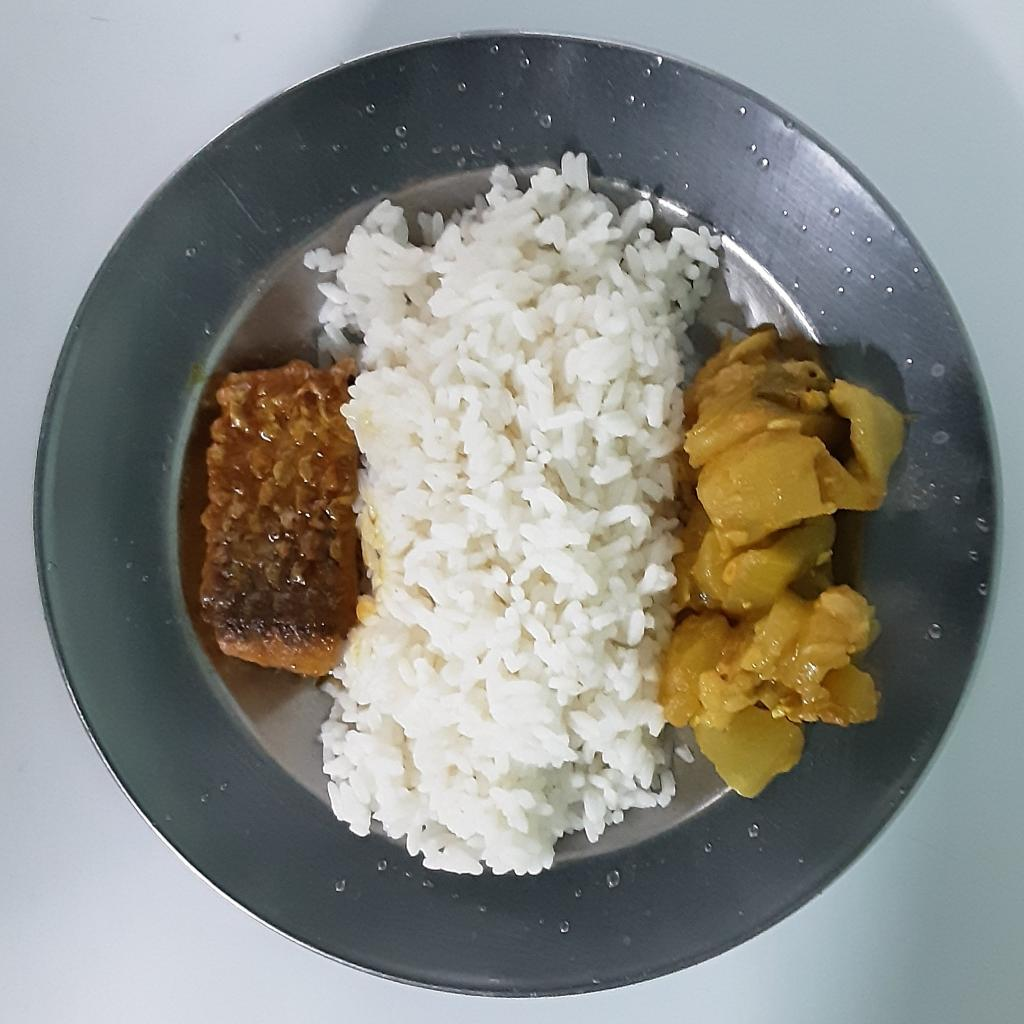fish: (201, 356, 366, 676)
lau: (662, 324, 906, 796)
rice: (303, 147, 719, 882)
